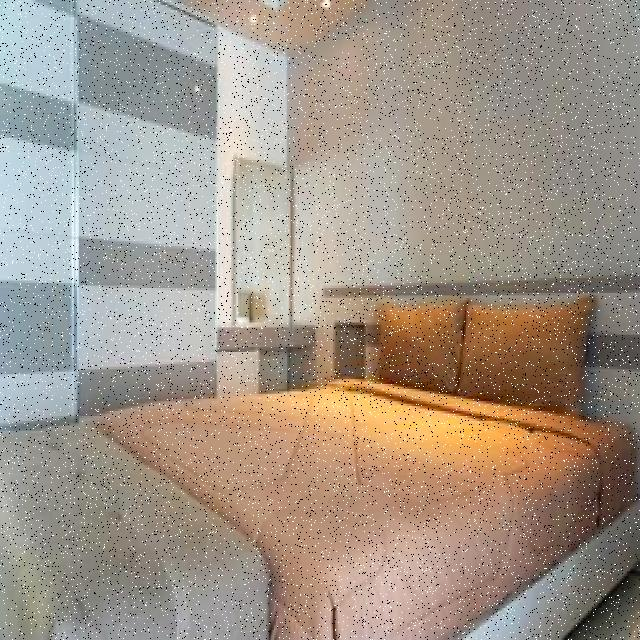bed: (83, 284, 636, 585)
